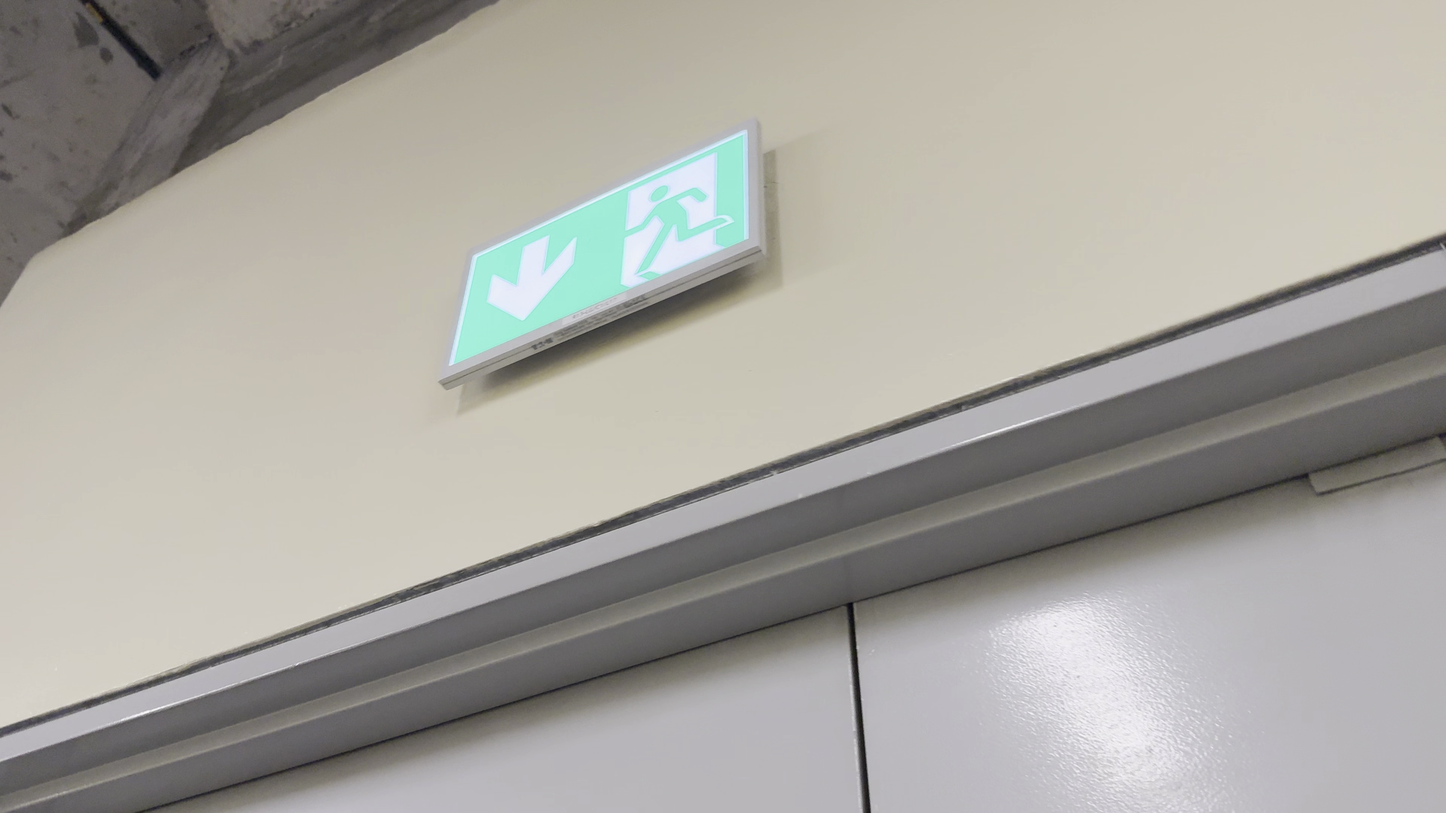emergency_exit: (437, 116, 768, 390)
